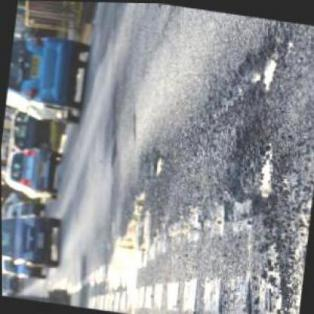Hueco: (227, 124, 281, 204), (228, 32, 281, 98), (151, 154, 165, 176)
